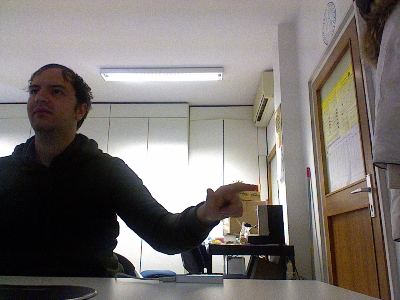枪: (201, 179, 259, 224)
